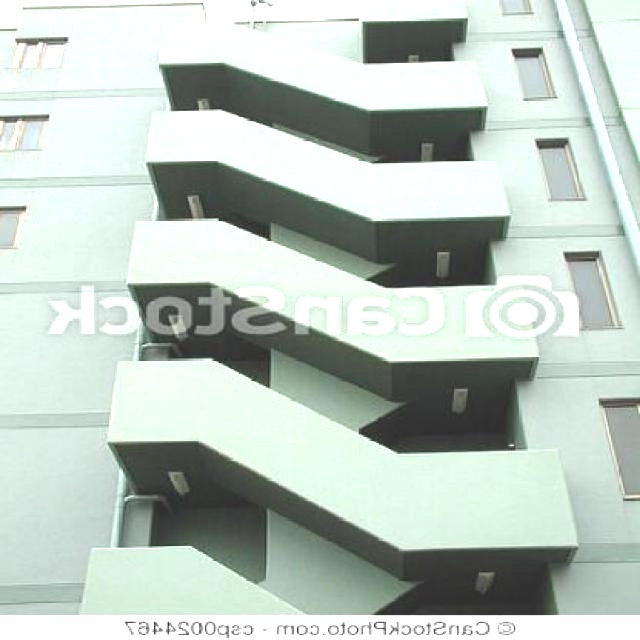stair: (113, 50, 498, 525)
